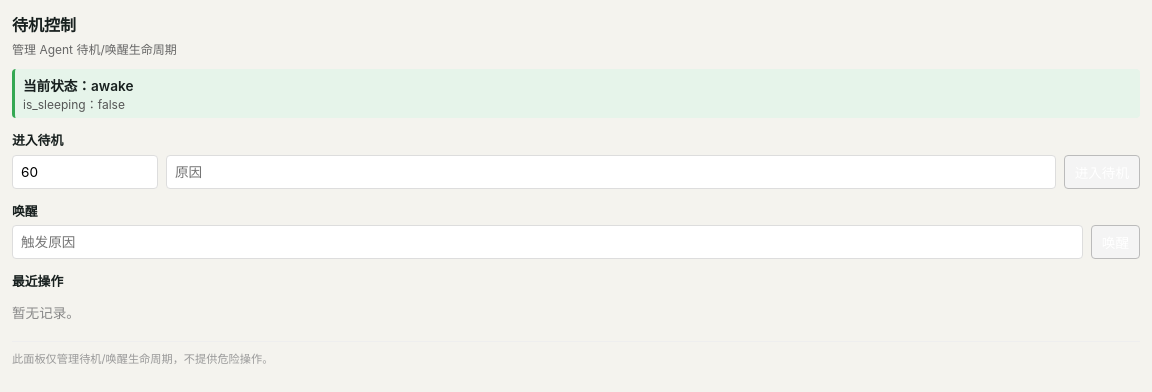
it: SleepWakePanel › wakes and shows awake state
Expected: the text "当前状态：awake" is shown, top-left (23, 78), bottom-right (133, 94)
Click the button "进入待机" at (1102, 172), box top-left (1064, 155), bottom-right (1140, 189)
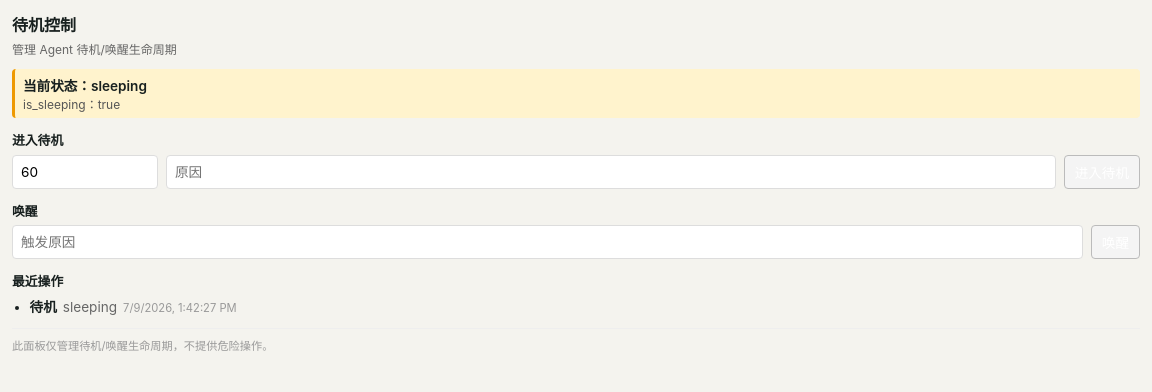
Expected: the text "当前状态：sleeping" is shown, top-left (23, 78), bottom-right (147, 94)
Click the button "唤醒" at (1115, 242), box top-left (1091, 225), bottom-right (1140, 259)
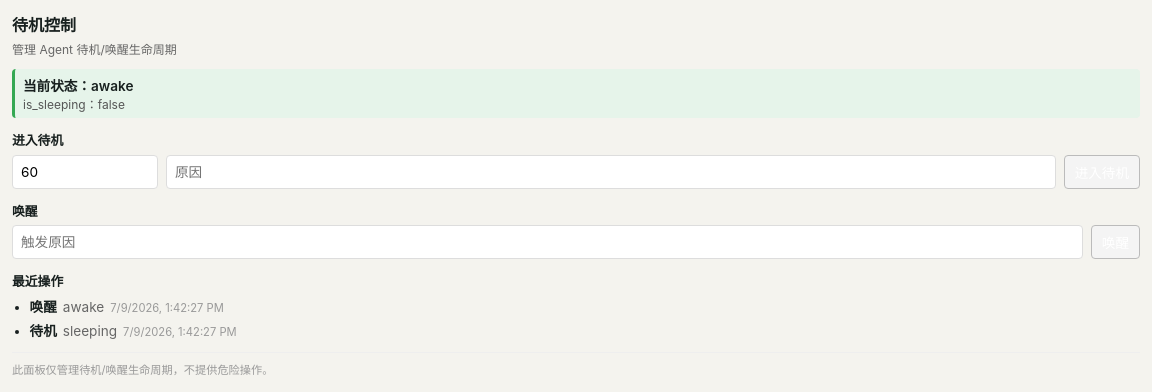
Expected: the text "当前状态：awake" is shown, top-left (23, 78), bottom-right (133, 94)
